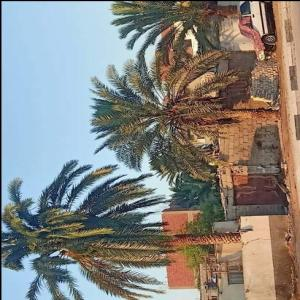palm tree: (1, 159, 179, 299)
